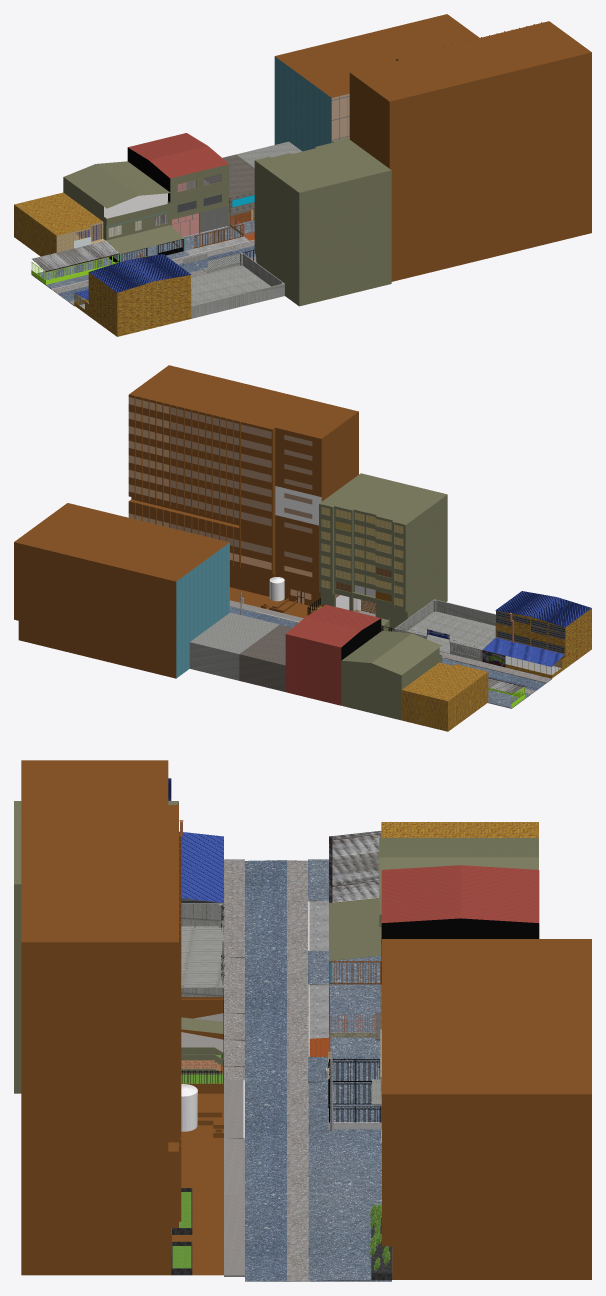
The model's file is casafachadatexturaCariñito.fbx.
3 views of the same model, one above another, from view 1: azimuth 30°, elevation 25°; view 2: azimuth 150°, elevation 25°; view 3: azimuth 270°, elevation 25° (orthographic). The views are drawn at different scales.
Visible parts, largest first — view 1: ClinicaFrenteCompleta_31, Edificio_frente_Total_43, Colsubsidio_Completo_37, Edificio_computadores_42, Restaurante_2_151, Casa_SolAroma_20, RestauranteVerde_158, Parqueadero_2_147, Object_4, Casa_2_Completa_11, Vidrios_colsub_36, Casa_Completa_19 (+1 smaller); view 2: ClinicaFrenteCompleta_31, Colsubsidio_Completo_37, Edificio_frente_Total_43, Edificio_computadores_42, Restaurante_2_151, Casa_SolAroma_20, RestauranteVerde_158, Parqueadero_2_147, Casa_Completa_19, Casa_2_Completa_11, Object_4, Anden_2_0 (+1 smaller); view 3: ClinicaFrenteCompleta_31, Colsubsidio_Completo_37, Object_4, Edificio_computadores_42, Object_8, Anden_2_0, Casa_SolAroma_20, Edificio_frente_Total_43, RestauranteVerde_158, Parqueadero_2_147, Restaurante_2_151, Object_6 (+5 smaller).
Boxes of the visible parts, bbox=[...] form: ClinicaFrenteCompleta_31: bbox=[349, 21, 591, 281]; Edificio_frente_Total_43: bbox=[254, 137, 391, 306]; Colsubsidio_Completo_37: bbox=[274, 14, 479, 151]; Edificio_computadores_42: bbox=[127, 133, 229, 237]; Restaurante_2_151: bbox=[75, 254, 191, 336]; Casa_SolAroma_20: bbox=[63, 161, 184, 254]; RestauranteVerde_158: bbox=[14, 192, 119, 272]; Parqueadero_2_147: bbox=[182, 252, 284, 318]; Object_4: bbox=[31, 220, 256, 301]; Casa_2_Completa_11: bbox=[187, 154, 254, 224]; Vidrios_colsub_36: bbox=[331, 94, 349, 142]; Casa_Completa_19: bbox=[236, 141, 302, 167]; ClinicaFrenteCompleta_31: bbox=[128, 365, 358, 618]; Colsubsidio_Completo_37: bbox=[14, 503, 229, 678]; Edificio_frente_Total_43: bbox=[307, 473, 447, 631]; Edificio_computadores_42: bbox=[285, 605, 381, 705]; Restaurante_2_151: bbox=[482, 591, 591, 668]; Casa_SolAroma_20: bbox=[341, 631, 442, 720]; RestauranteVerde_158: bbox=[401, 662, 524, 731]; Parqueadero_2_147: bbox=[394, 599, 495, 661]; Casa_Completa_19: bbox=[189, 612, 279, 680]; Casa_2_Completa_11: bbox=[239, 624, 292, 691]; Object_4: bbox=[229, 606, 545, 708]; Anden_2_0: bbox=[229, 600, 551, 683]; ClinicaFrenteCompleta_31: bbox=[21, 760, 223, 1275]; Colsubsidio_Completo_37: bbox=[382, 939, 591, 1279]; Object_4: bbox=[245, 859, 391, 1281]; Edificio_computadores_42: bbox=[381, 865, 539, 984]; Object_8: bbox=[287, 860, 308, 1281]; Anden_2_0: bbox=[224, 859, 244, 1276]; Casa_SolAroma_20: bbox=[329, 838, 538, 961]; Edificio_frente_Total_43: bbox=[14, 801, 223, 1093]; RestauranteVerde_158: bbox=[329, 822, 538, 903]; Parqueadero_2_147: bbox=[181, 903, 223, 996]; Restaurante_2_151: bbox=[168, 778, 223, 903]; Object_6: bbox=[309, 900, 328, 1038].
Bounding box in the file's own units: 10644 × 4000 × 6117.
75 materials, 52 textured.
